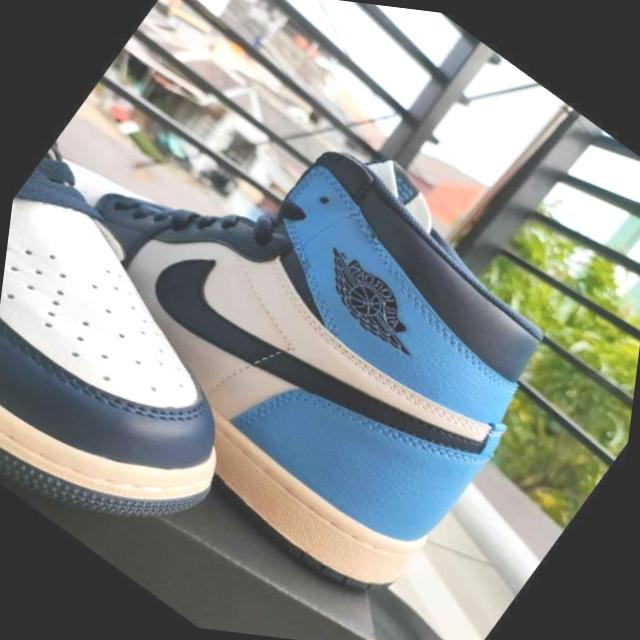nike_original_jordan: (0, 7, 625, 640), (0, 135, 349, 603)
